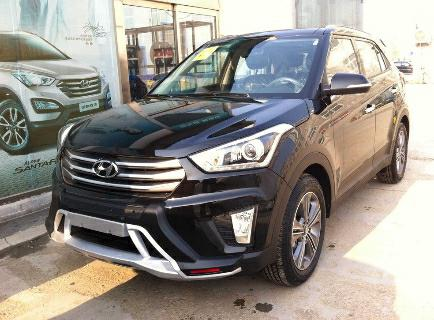现代-北京现代-ix35: (44, 24, 418, 295)
